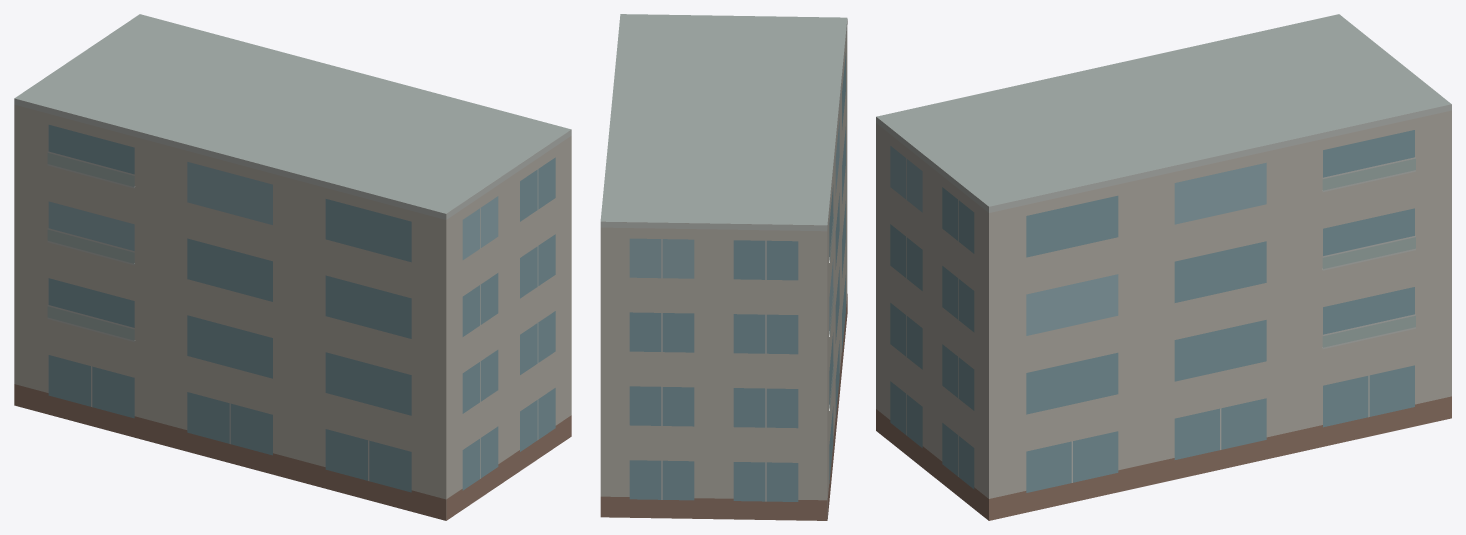
The model's file is survey-upis-32704346.glb.
The picture shows the model from 3 angles, left to right: view 1: azimuth 30°, elevation 25°; view 2: azimuth 150°, elevation 25°; view 3: azimuth 270°, elevation 25°; orthographic projection. The views are drawn at different scales.
Visible parts, largest first — view 1: survey-upis-32704346.tmp; view 2: survey-upis-32704346.tmp; view 3: survey-upis-32704346.tmp.
Part boxes in pixels (x1,y1,x2,y2): survey-upis-32704346.tmp: [14, 14, 571, 520]; survey-upis-32704346.tmp: [600, 14, 847, 520]; survey-upis-32704346.tmp: [876, 14, 1451, 520].
Bounding box in the file's own units: 16.07 × 12.2 × 20.28.
